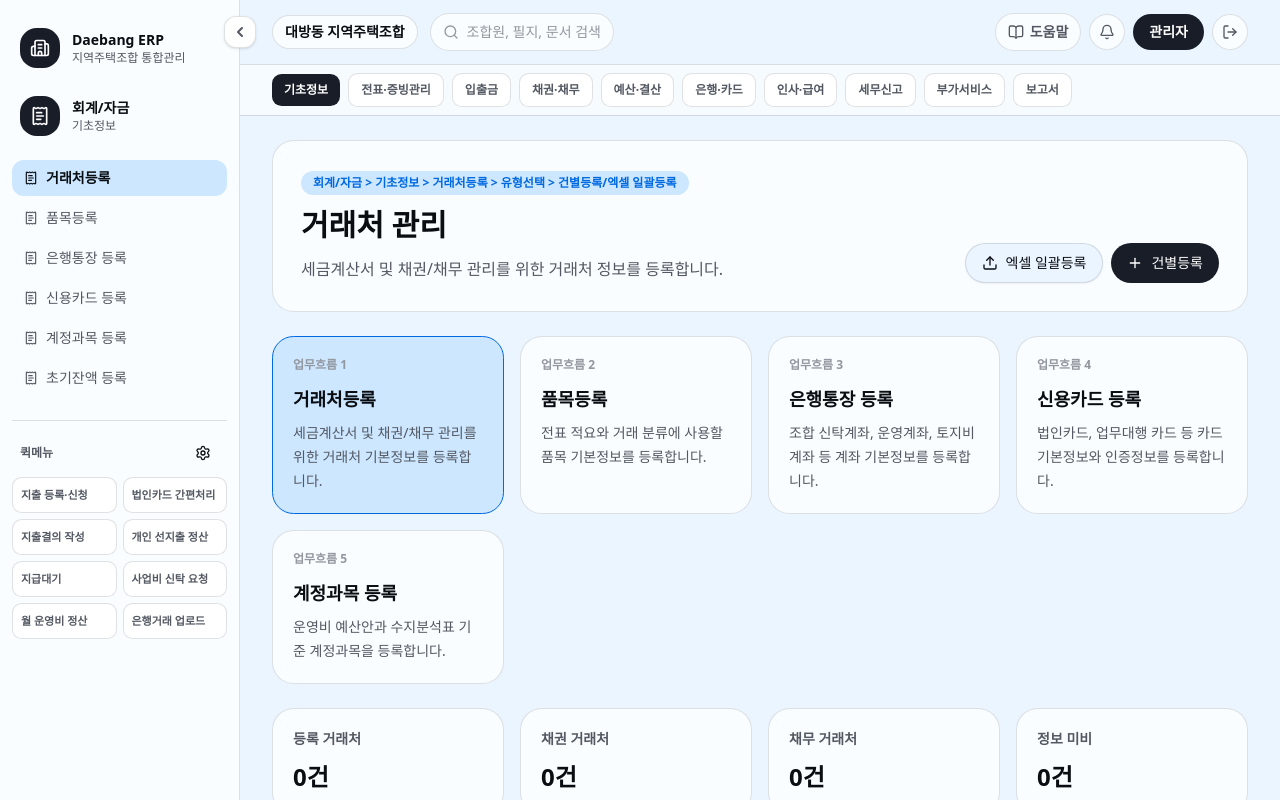
BusinessPartnerPage › registers a business partner through the configured server action
Click the button "건별등록" at (1165, 263), box [1112,243,1219,283]
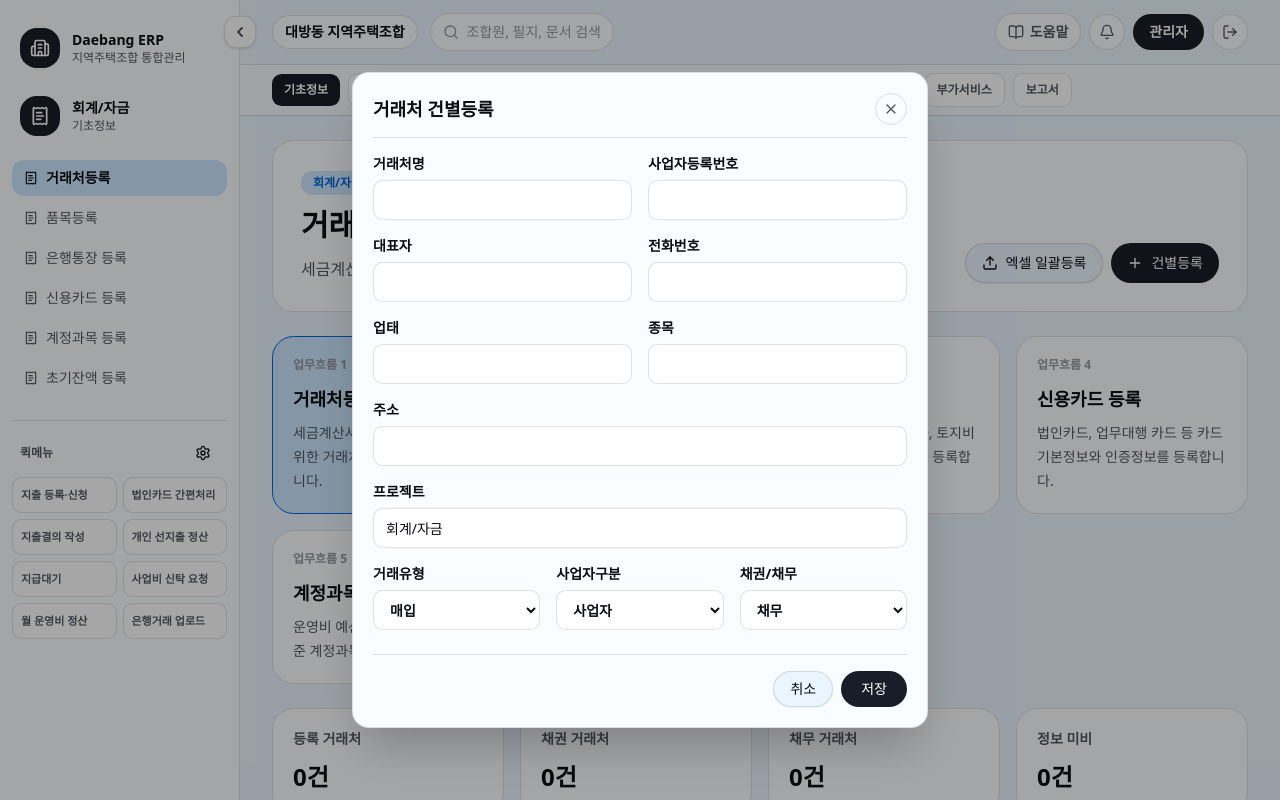
Type "신규 거래처" into the field labelled "거래처명" at (502, 200), box [373,180,632,220]
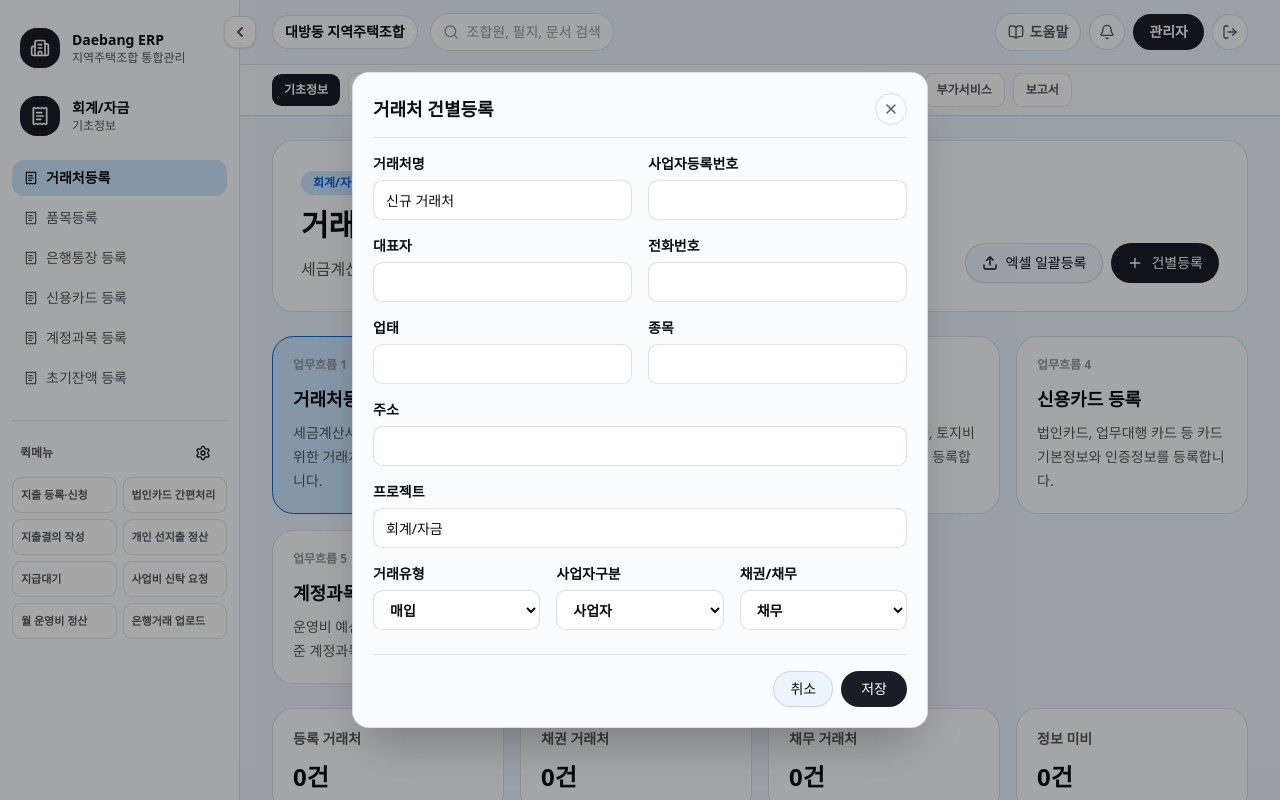
Type "123-45-67890" into the field labelled "사업자등록번호" at (778, 200), box [648,180,907,220]
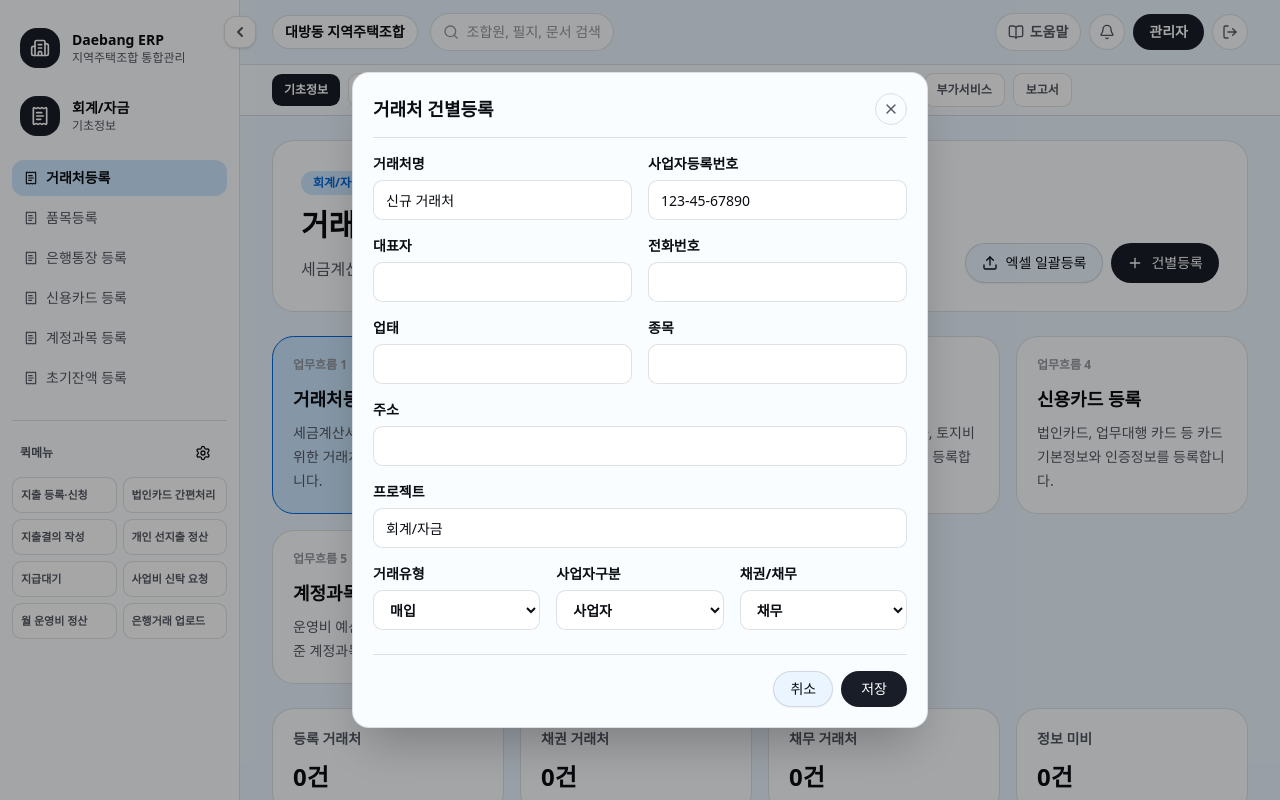
Type "홍길동" into the field labelled "대표자" at (502, 282), box [373,262,632,302]
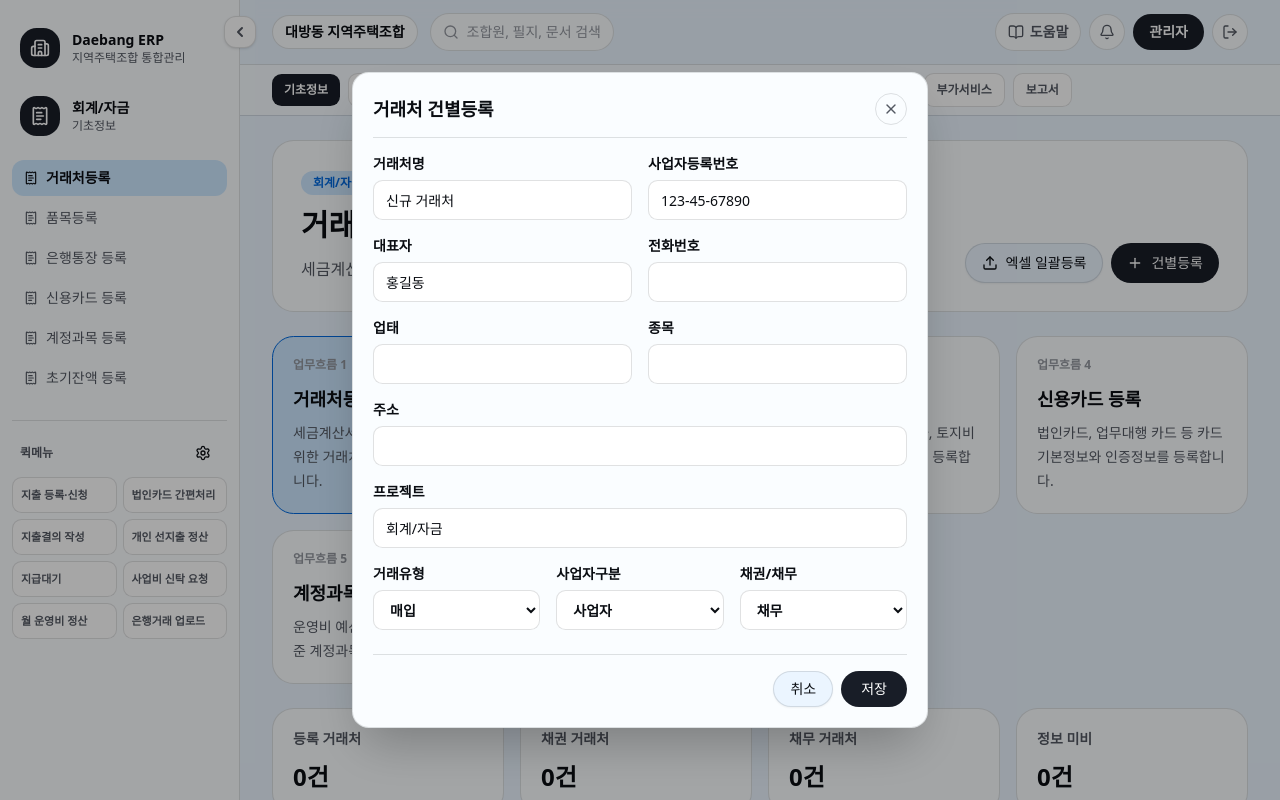
Click the button "저장" at (874, 689), box [841,671,907,707]
(page scrolled)
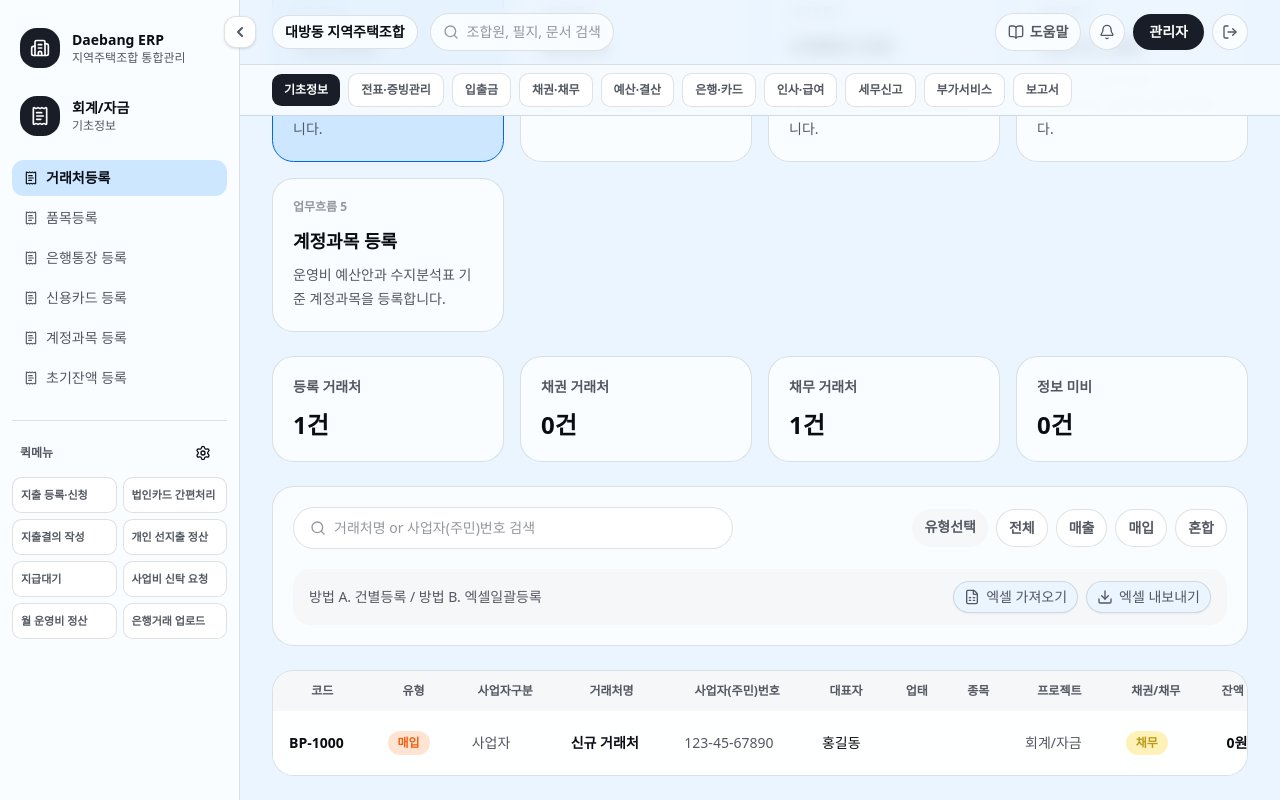
Now the text "신규 거래처" is shown, box [555,711,668,775]
